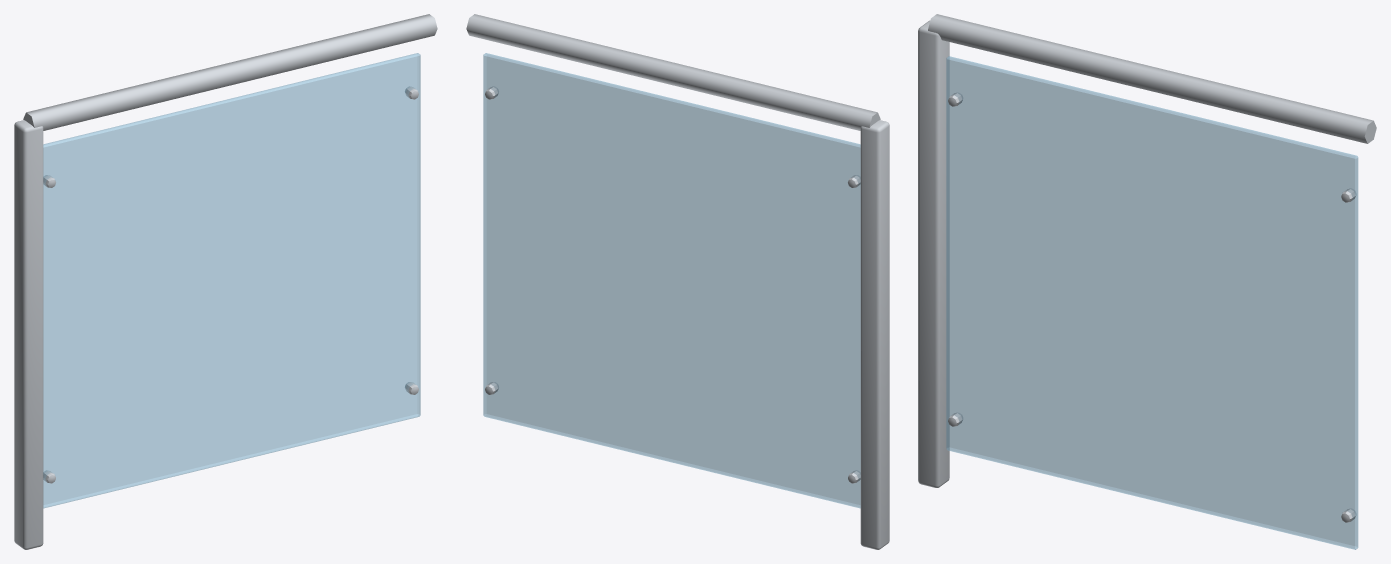
Rendered from guarda_corpo_vidro_1m.glb.
3 views of the same model, side by side, from view 1: azimuth 30°, elevation 25°; view 2: azimuth 150°, elevation 25°; view 3: azimuth 330°, elevation 25° (orthographic). The views are drawn at different scales.
Parts seen in each view (by area): view 1: guarda_corpo_vidro_1m; view 2: guarda_corpo_vidro_1m; view 3: guarda_corpo_vidro_1m.
Boxes of the visible parts, bbox=[...] form: guarda_corpo_vidro_1m: bbox=[14, 14, 437, 549]; guarda_corpo_vidro_1m: bbox=[466, 14, 889, 549]; guarda_corpo_vidro_1m: bbox=[918, 14, 1376, 549].
Bounding box in the file's own units: 1.03 × 1.02 × 0.05.
Materials: 2 (1 with a texture image).
